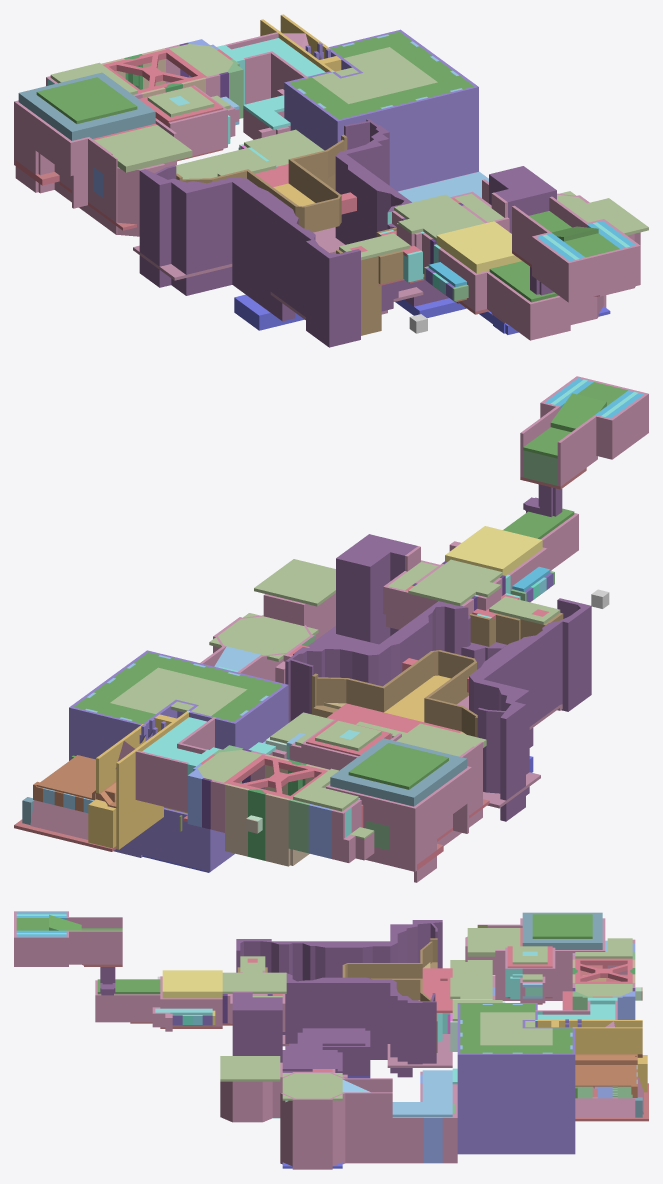
Rendered from e1m1quakev4.fbx.
The picture shows the model from 3 angles, top to bottom: view 1: azimuth 30°, elevation 25°; view 2: azimuth 150°, elevation 25°; view 3: azimuth 270°, elevation 25°; orthographic projection. The views are drawn at different scales.
Parts seen in each view (by area): view 1: bsp_model_0; view 2: bsp_model_0; view 3: bsp_model_0.
Part boxes in pixels (left/top/right/bottom): bsp_model_0: left=14, top=14, right=648, bottom=347; bsp_model_0: left=14, top=376, right=648, bottom=882; bsp_model_0: left=14, top=911, right=648, bottom=1169.
Size of the model in its own units: 6650 by 3975 by 12700.
